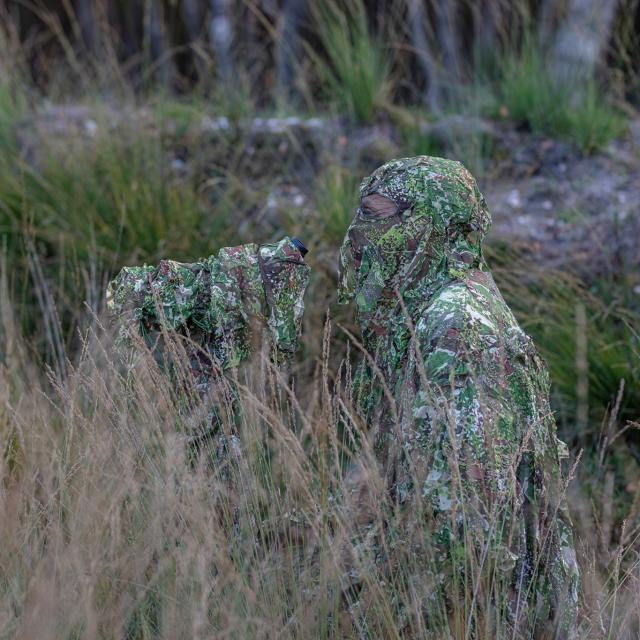Camouflage: (106, 153, 576, 625)
